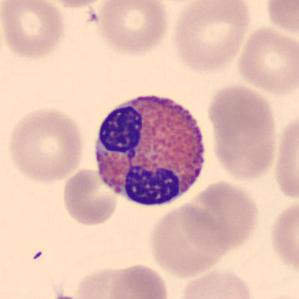Eosinophil: (87, 84, 214, 215)
RBC: (206, 81, 280, 184), (5, 104, 87, 184), (146, 200, 228, 278), (177, 179, 262, 254), (169, 0, 252, 73), (91, 0, 172, 57), (234, 24, 298, 96), (0, 0, 68, 62), (60, 167, 120, 228), (73, 263, 151, 299), (173, 266, 256, 299), (271, 109, 299, 205), (266, 197, 298, 280), (107, 261, 172, 299), (261, 0, 299, 38), (40, 0, 113, 9), (247, 291, 298, 299)
